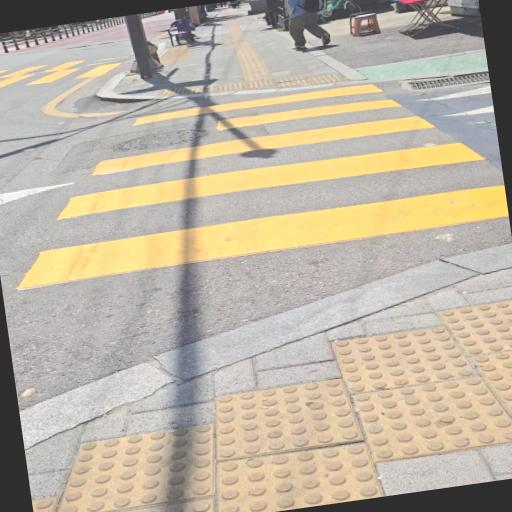yellow-crosswalk: (0, 54, 512, 308), (0, 44, 151, 97)
